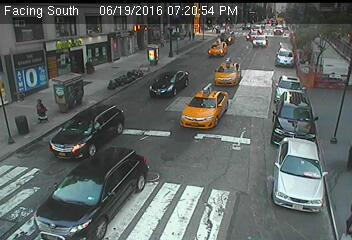neg: (283, 57, 323, 110), (52, 160, 76, 191), (137, 53, 156, 79)
pos: (27, 97, 51, 129)
